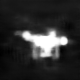plane: (9, 26, 69, 60)
